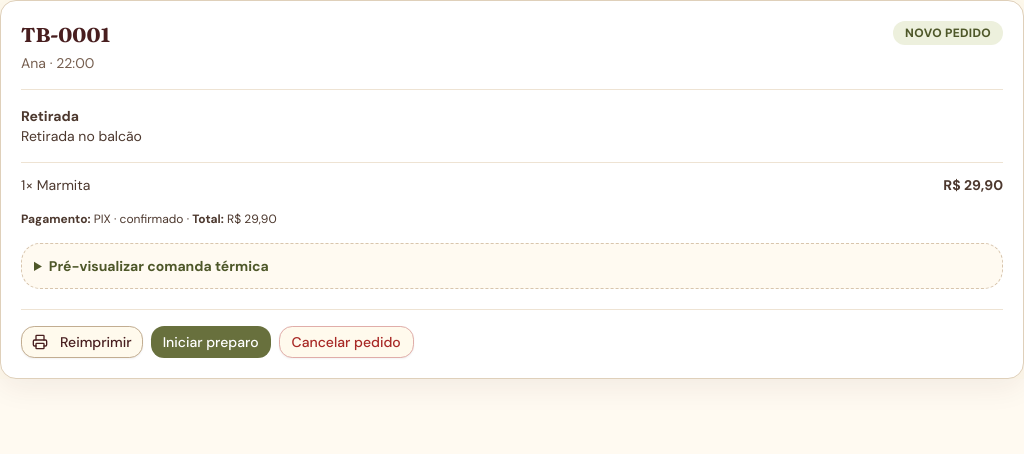
Test case: OrderQueue no runtime Vercel › informa ao operador quando a reimpressão manual não abre no navegador
The image size is (1024, 454).
Check: the text "TB-0001" is shown, box [21,21,110,49]
Click the button "Reimprimir": (82,342) [21,326,143,358]
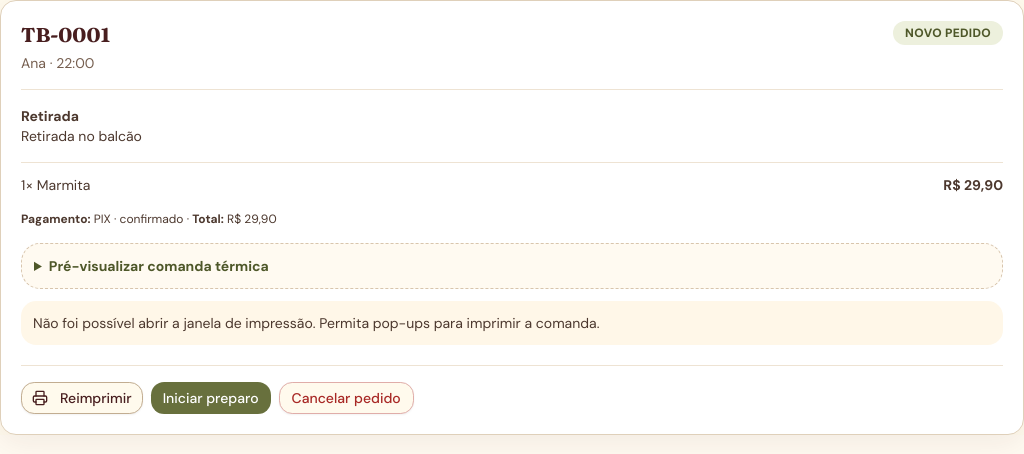
Check: the text "Não foi possível abrir a janela de impressão. Permita pop-ups para imprimir a comanda." is shown, box [33,314,600,332]
